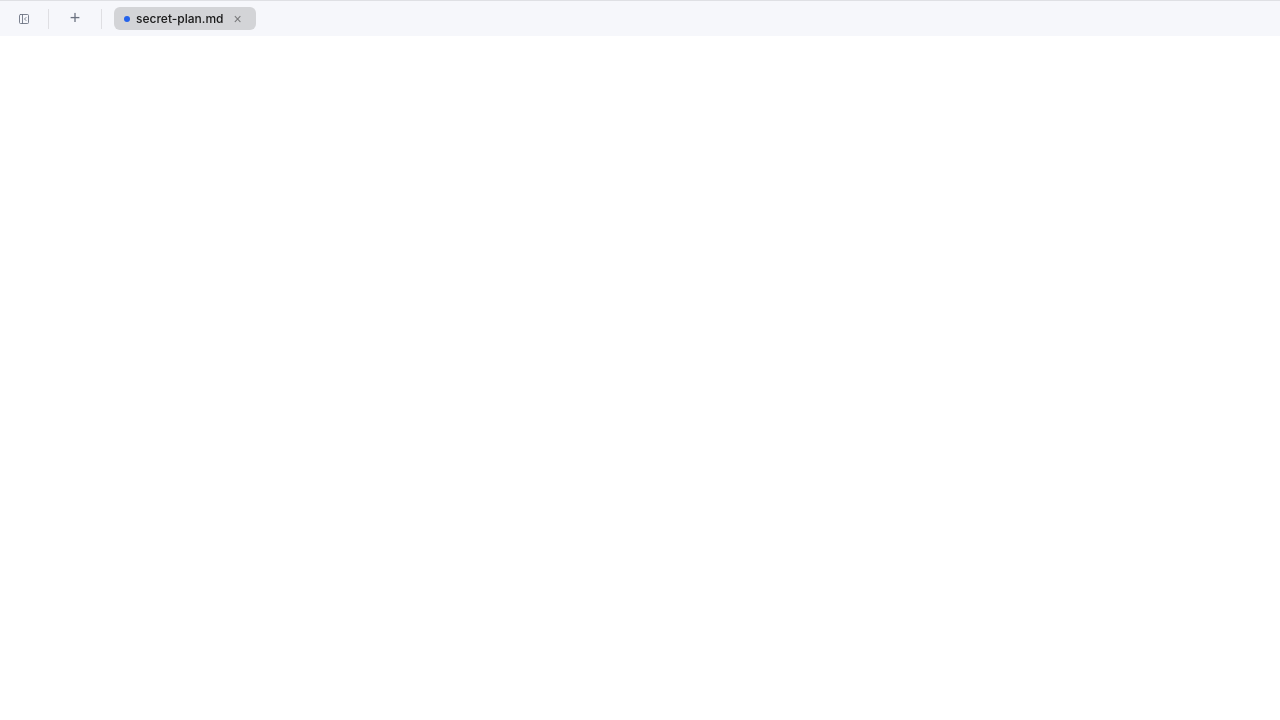
Test case: discard dialog initial focus wiring (D48) › DW-1: BottomTabs — closing a dirty tab opens the dialog with focus on Keep editing; Enter keeps the tab
Click the button with class "bottom-tab__close" at [238, 18], box x1=230 y1=10 x2=246 y2=26
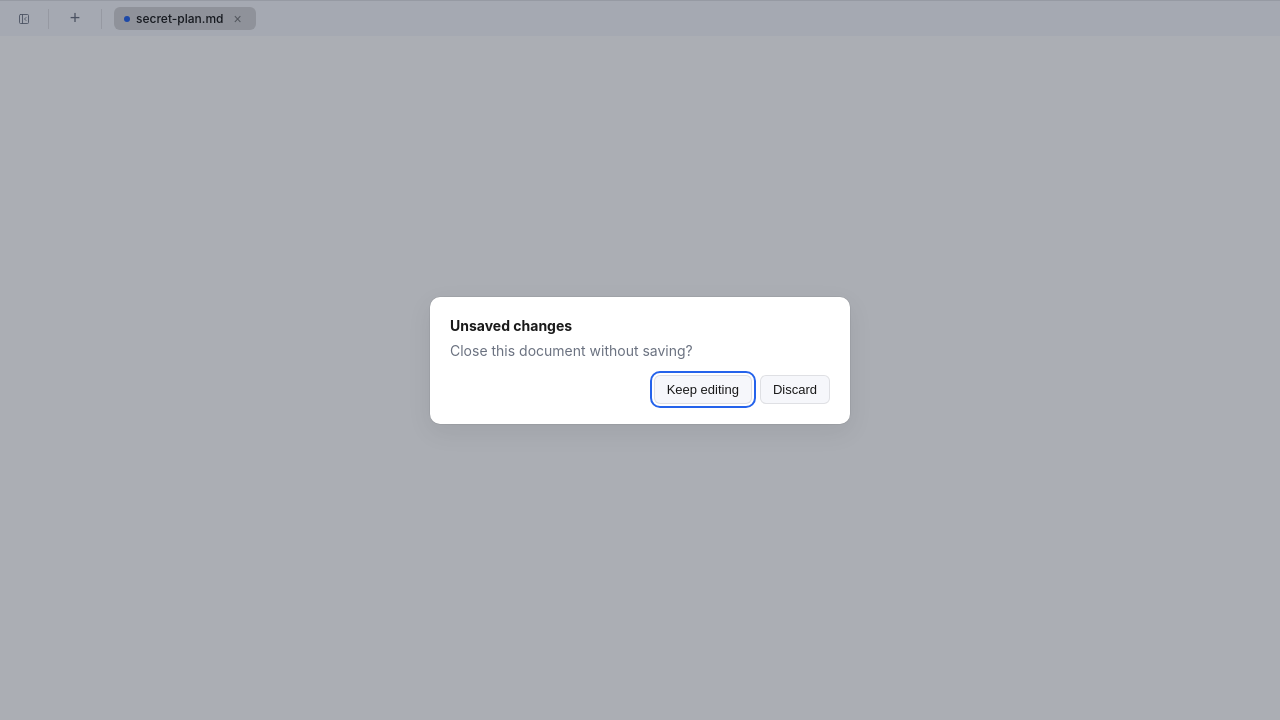
Expected: the dialog "Unsaved changes" is shown, x1=430 y1=296 x2=850 y2=424
Press Enter
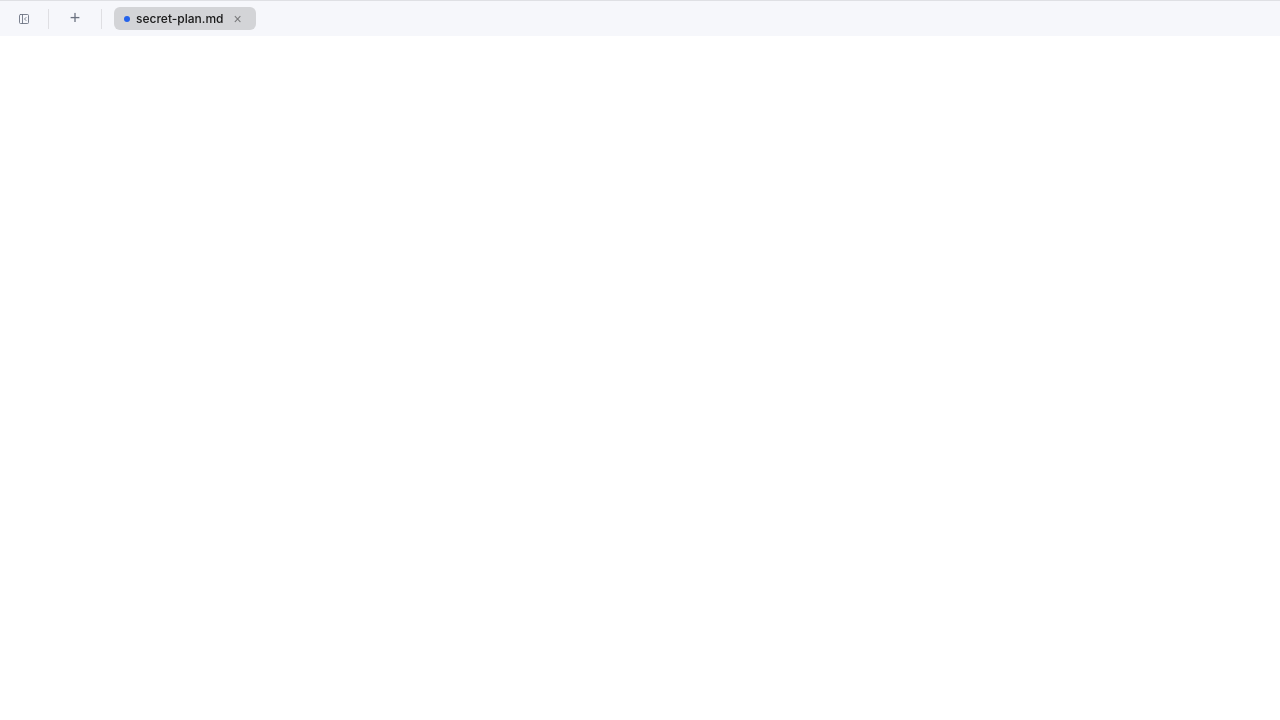
Expected: the heading "Unsaved changes" is gone
